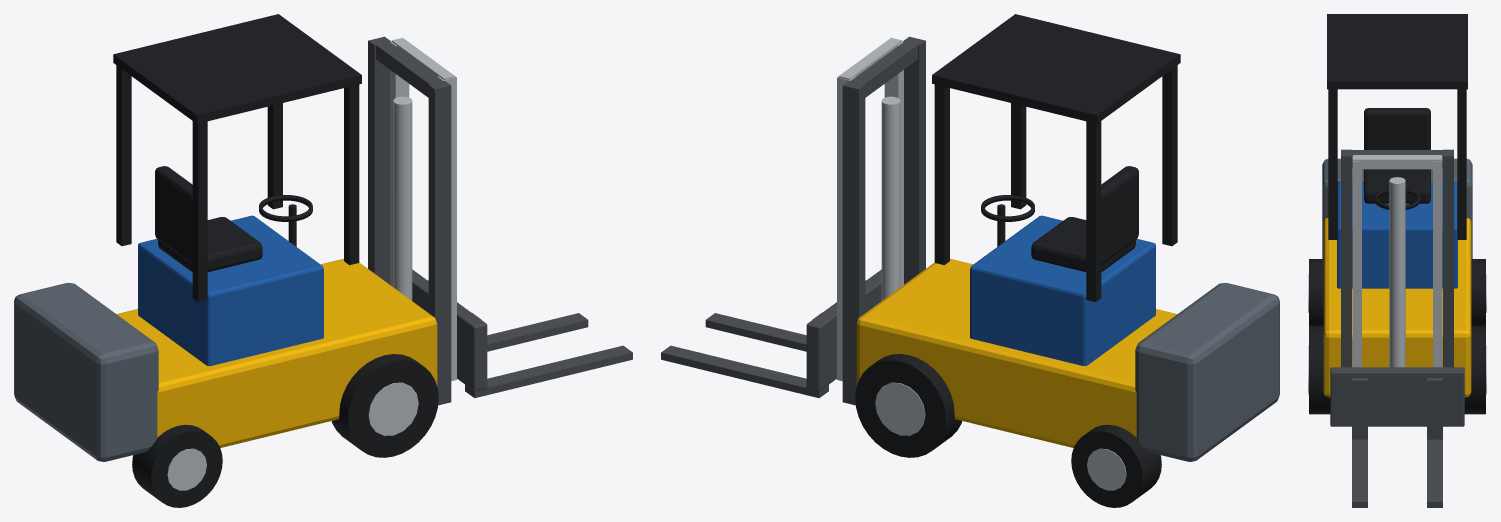
The model's file is forklift.glb.
The picture shows the model from 3 angles, left to right: view 1: azimuth 30°, elevation 25°; view 2: azimuth 150°, elevation 25°; view 3: azimuth 270°, elevation 25°; orthographic projection. The views are drawn at different scales.
Parts seen in each view (by area): view 1: Part_Proteccion, Part_Chasis, Part_Contrapeso, Part_Bateria, Part_Mastil_Exterior, Part_Rueda_DD, Part_Asiento, Part_Rueda_TD, Part_Cilindro_Elevacion, Part_Mastil_Interior, Part_Carro, Part_Horquilla_D (+2 smaller); view 2: Part_Proteccion, Part_Chasis, Part_Contrapeso, Part_Bateria, Part_Mastil_Exterior, Part_Rueda_DI, Part_Asiento, Part_Rueda_TI, Part_Cilindro_Elevacion, Part_Mastil_Interior, Part_Carro, Part_Horquilla_I (+2 smaller); view 3: Part_Proteccion, Part_Chasis, Part_Carro, Part_Bateria, Part_Mastil_Interior, Part_Mastil_Exterior, Part_Asiento, Part_Cilindro_Elevacion, Part_Horquilla_D, Part_Horquilla_I, Part_Rueda_DD, Part_Rueda_DI (+4 smaller).
Boxes of the visible parts, x1,y1,x2,y2 form: Part_Proteccion: (113,14,361,301); Part_Chasis: (116,258,437,447); Part_Contrapeso: (14,283,158,461); Part_Bateria: (138,215,323,366); Part_Mastil_Exterior: (368,36,451,405); Part_Rueda_DD: (331,354,438,457); Part_Asiento: (155,166,262,272); Part_Rueda_TD: (132,424,222,507); Part_Cilindro_Elevacion: (393,96,412,300); Part_Mastil_Interior: (390,37,456,381); Part_Carro: (412,269,487,390); Part_Horquilla_D: (465,313,632,398); Part_Proteccion: (932,14,1180,301); Part_Chasis: (856,258,1177,447); Part_Contrapeso: (1135,283,1279,461); Part_Bateria: (970,215,1155,366); Part_Mastil_Exterior: (842,36,925,405); Part_Rueda_DI: (855,354,962,457); Part_Asiento: (1031,166,1138,272); Part_Rueda_TI: (1071,424,1161,507); Part_Cilindro_Elevacion: (881,96,900,300); Part_Mastil_Interior: (837,37,903,381); Part_Carro: (806,269,881,390); Part_Horquilla_I: (661,313,828,398); Part_Proteccion: (1327,14,1467,239); Part_Chasis: (1323,218,1471,397); Part_Carro: (1330,367,1464,426); Part_Bateria: (1337,181,1457,288); Part_Mastil_Interior: (1352,155,1442,367); Part_Mastil_Exterior: (1341,149,1453,367); Part_Asiento: (1364,108,1430,203); Part_Cilindro_Elevacion: (1389,177,1405,367); Part_Horquilla_D: (1352,378,1367,507); Part_Horquilla_I: (1427,378,1442,507); Part_Rueda_DD: (1308,326,1330,414); Part_Rueda_DI: (1464,326,1486,414).
Bounding box in the file's own units: 4 × 2.63 × 1.33.
